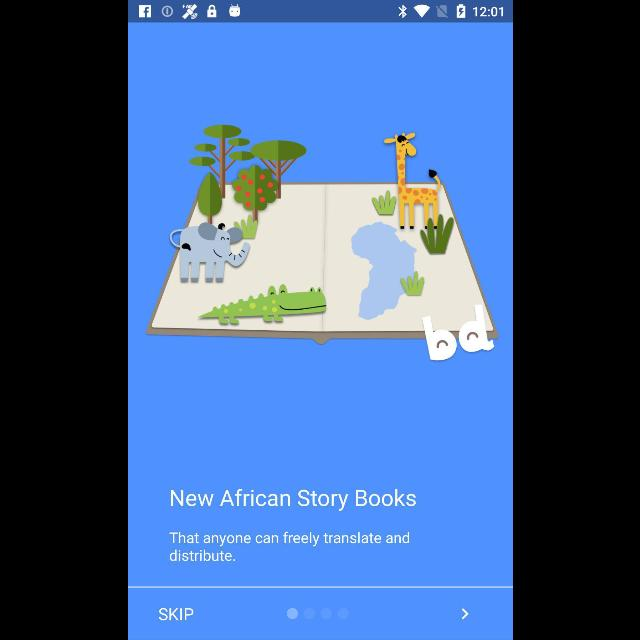icon: (460, 608, 468, 620)
image: (144, 125, 498, 362)
pageindicator: (286, 608, 348, 620)
text: (168, 532, 410, 562), (170, 488, 416, 510), (158, 608, 194, 620)
uppertaskbar: (128, 1, 512, 23)
